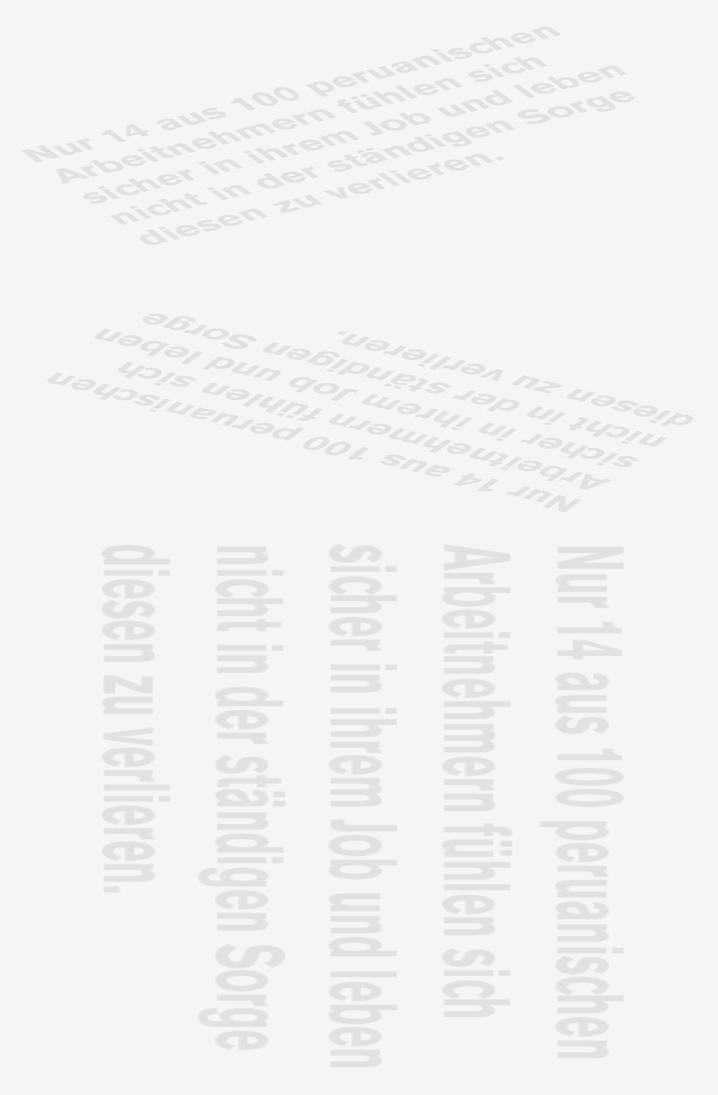
Rendered from privileged-iii-Fakten3.glb.
3 views of the same model, one above another, from view 1: azimuth 30°, elevation 25°; view 2: azimuth 150°, elevation 25°; view 3: azimuth 270°, elevation 25° (orthographic). The views are drawn at different scales.
Visible parts, largest first — view 1: 3; view 2: 3; view 3: 3.
Part boxes in pixels (bbox=[...]): 3: bbox=[21, 26, 634, 244]; 3: bbox=[47, 313, 693, 512]; 3: bbox=[101, 544, 623, 1067].
Size of the model in its own units: 2.37 by 0 by 1.04.
1 material, 1 textured.
